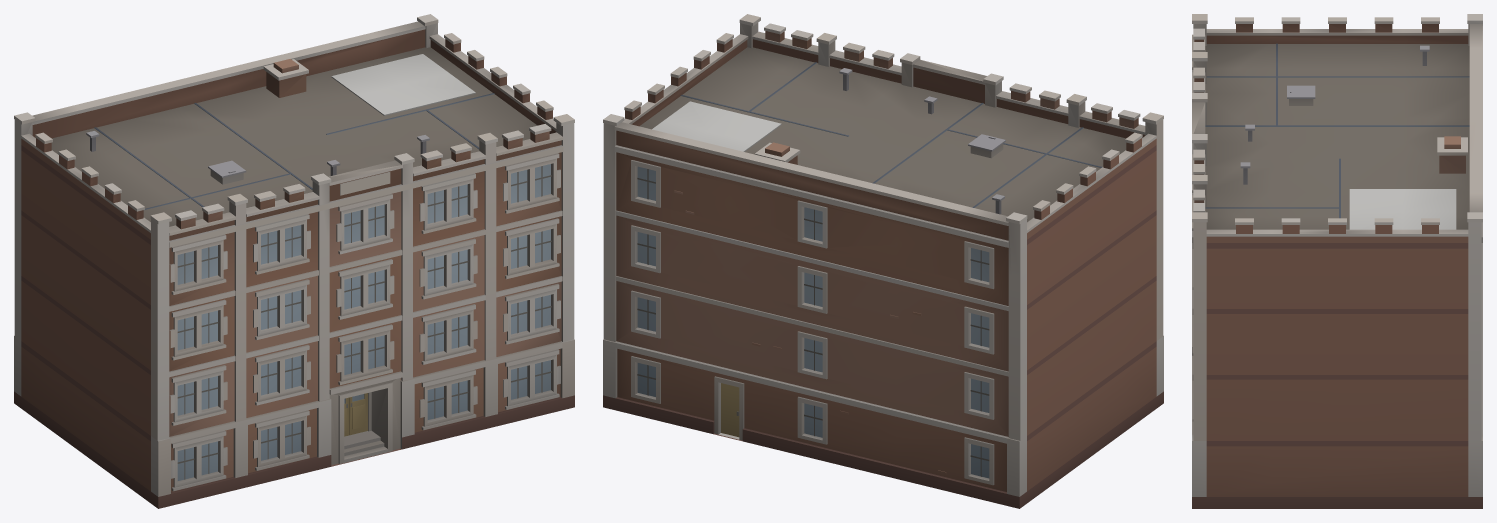
The model's file is school.glb.
The picture shows the model from 3 angles, left to right: view 1: azimuth 30°, elevation 25°; view 2: azimuth 150°, elevation 25°; view 3: azimuth 270°, elevation 25°; orthographic projection.
Parts seen in each view (by area): view 1: school.001; view 2: school.001; view 3: school.001.
Part boxes in pixels (x1,y1,x2,y2): school.001: (14, 14, 574, 508); school.001: (603, 14, 1163, 508); school.001: (1192, 14, 1482, 508).
Size of the model in its own units: 20 by 13.2 by 12.
